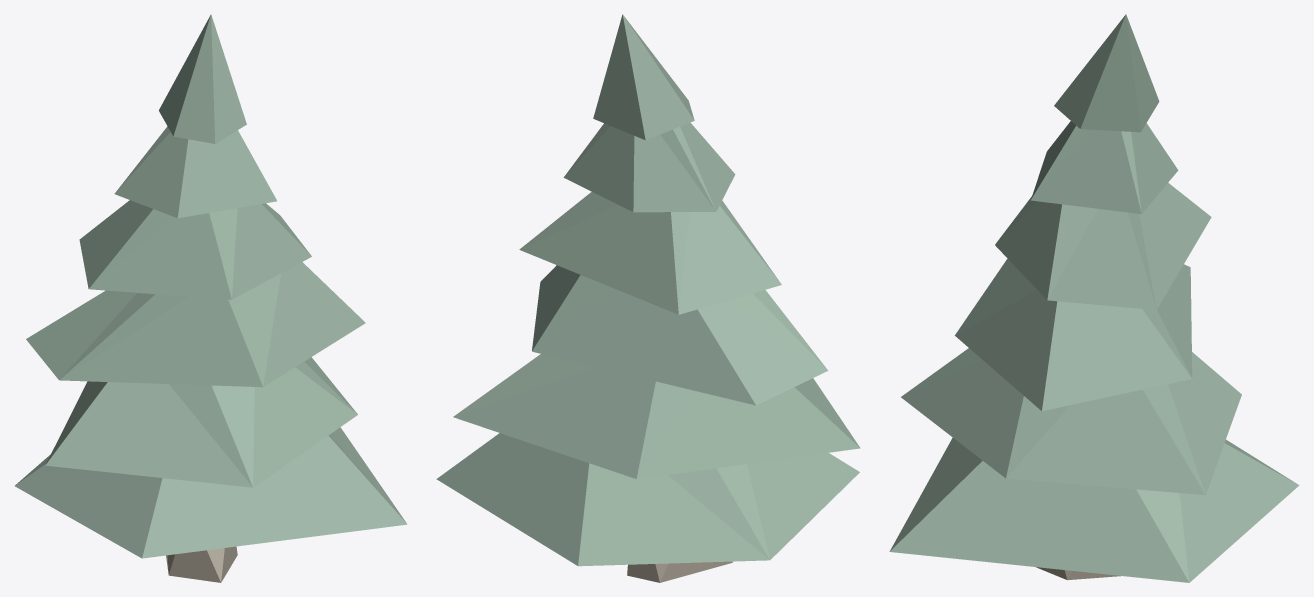
File: tree.dae
The picture shows the model from 3 angles, left to right: view 1: azimuth 30°, elevation 25°; view 2: azimuth 150°, elevation 25°; view 3: azimuth 270°, elevation 25°; orthographic projection. The views are drawn at different scales.
Parts seen in each view (by area): view 1: SketchUp_1464, SketchUp_1436, SketchUp_1449, SketchUp_1430, SketchUp_1458, SketchUp_1444, SketchUp_1439; view 2: SketchUp_1449, SketchUp_1436, SketchUp_1464, SketchUp_1430, SketchUp_1458, SketchUp_1444, SketchUp_1439; view 3: SketchUp_1449, SketchUp_1436, SketchUp_1464, SketchUp_1430, SketchUp_1458, SketchUp_1444.
Boxes of the visible parts, x1,y1,x2,y2 form: SketchUp_1464: [26, 262, 365, 387]; SketchUp_1436: [45, 357, 357, 487]; SketchUp_1449: [15, 427, 407, 558]; SketchUp_1430: [79, 200, 311, 299]; SketchUp_1458: [114, 126, 276, 218]; SketchUp_1444: [159, 14, 246, 143]; SketchUp_1439: [166, 546, 237, 582]; SketchUp_1449: [436, 433, 859, 566]; SketchUp_1436: [453, 354, 860, 479]; SketchUp_1464: [532, 265, 828, 405]; SketchUp_1430: [519, 192, 781, 314]; SketchUp_1458: [563, 122, 735, 212]; SketchUp_1444: [593, 14, 694, 140]; SketchUp_1439: [627, 561, 732, 582]; SketchUp_1449: [889, 438, 1299, 582]; SketchUp_1436: [901, 348, 1241, 495]; SketchUp_1464: [955, 258, 1192, 411]; SketchUp_1430: [995, 183, 1211, 309]; SketchUp_1458: [1030, 121, 1178, 214]; SketchUp_1444: [1054, 14, 1159, 132].
Size of the model in its own units: 3.52 by 3.37 by 5.14.
